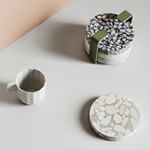cups: (5, 65, 51, 107)
